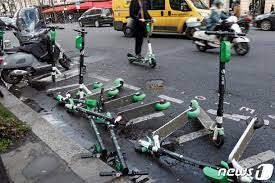fallin_kick: (137, 100, 230, 180)
kick_handler: (206, 29, 244, 37), (41, 25, 64, 31), (73, 28, 86, 36)
kick_neck: (217, 42, 228, 120), (77, 36, 85, 85), (49, 31, 54, 75)
kick_wheel: (212, 130, 223, 147), (148, 58, 155, 67)
